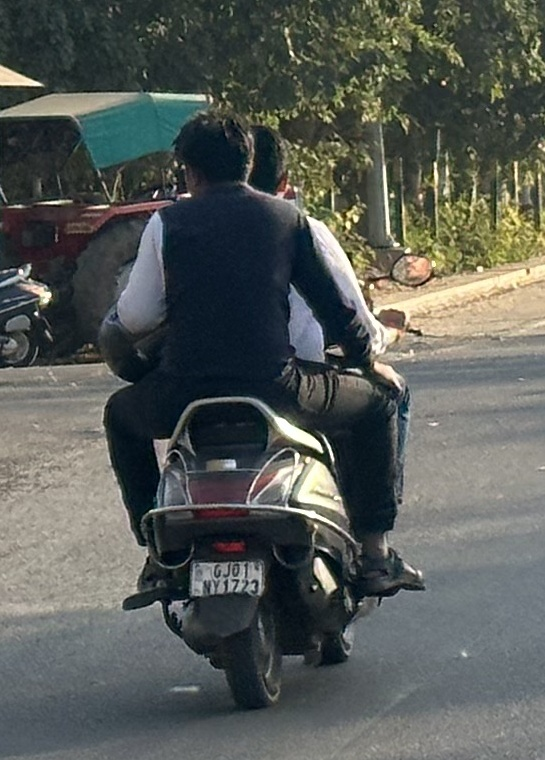BikeWithRider: (94, 87, 463, 714)
NoHelmet: (170, 102, 259, 213), (229, 109, 297, 208)
